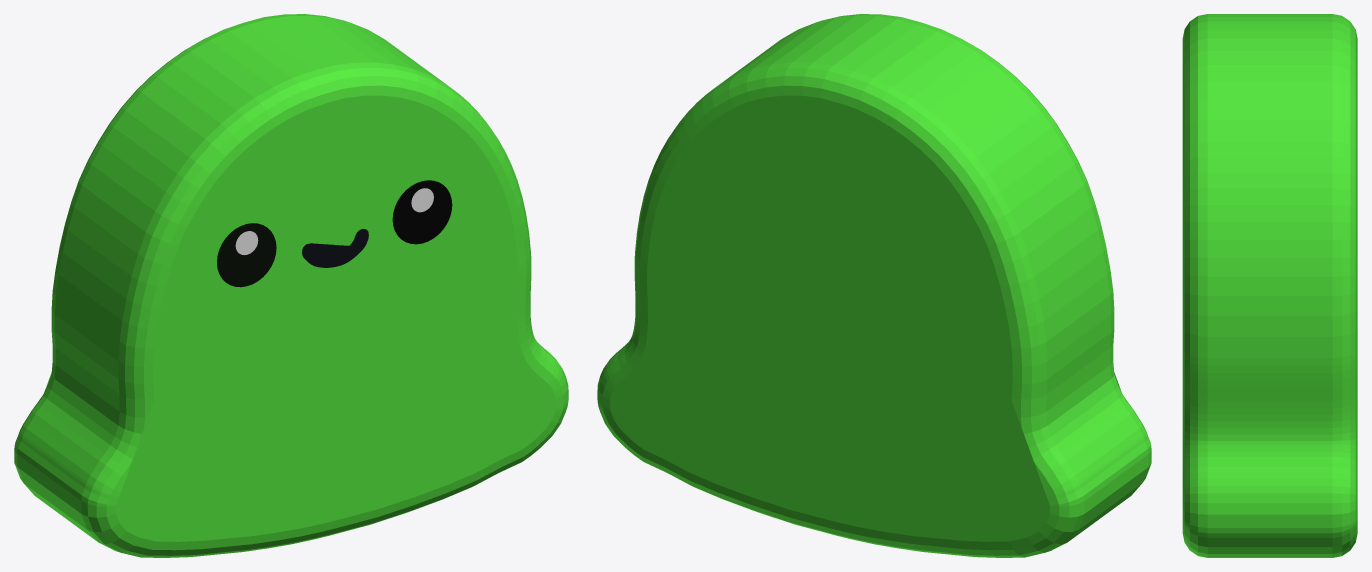
Rendered from Slime.fbx.
3 views of the same model, side by side, from view 1: azimuth 30°, elevation 25°; view 2: azimuth 150°, elevation 25°; view 3: azimuth 270°, elevation 25° (orthographic).
Visible parts, largest first — view 1: BezierCurve.001; view 2: BezierCurve.001; view 3: BezierCurve.001.
Boxes of the visible parts, left/top/right/bottom form: BezierCurve.001: left=14, top=14, right=568, bottom=557; BezierCurve.001: left=597, top=14, right=1151, bottom=557; BezierCurve.001: left=1182, top=14, right=1357, bottom=557.
Bounding box in the file's own units: 302 × 278 × 97.76.
